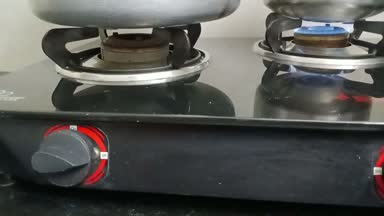flame_gas_off: (20, 19, 183, 189)
flame_gas_on: (269, 14, 384, 58)
